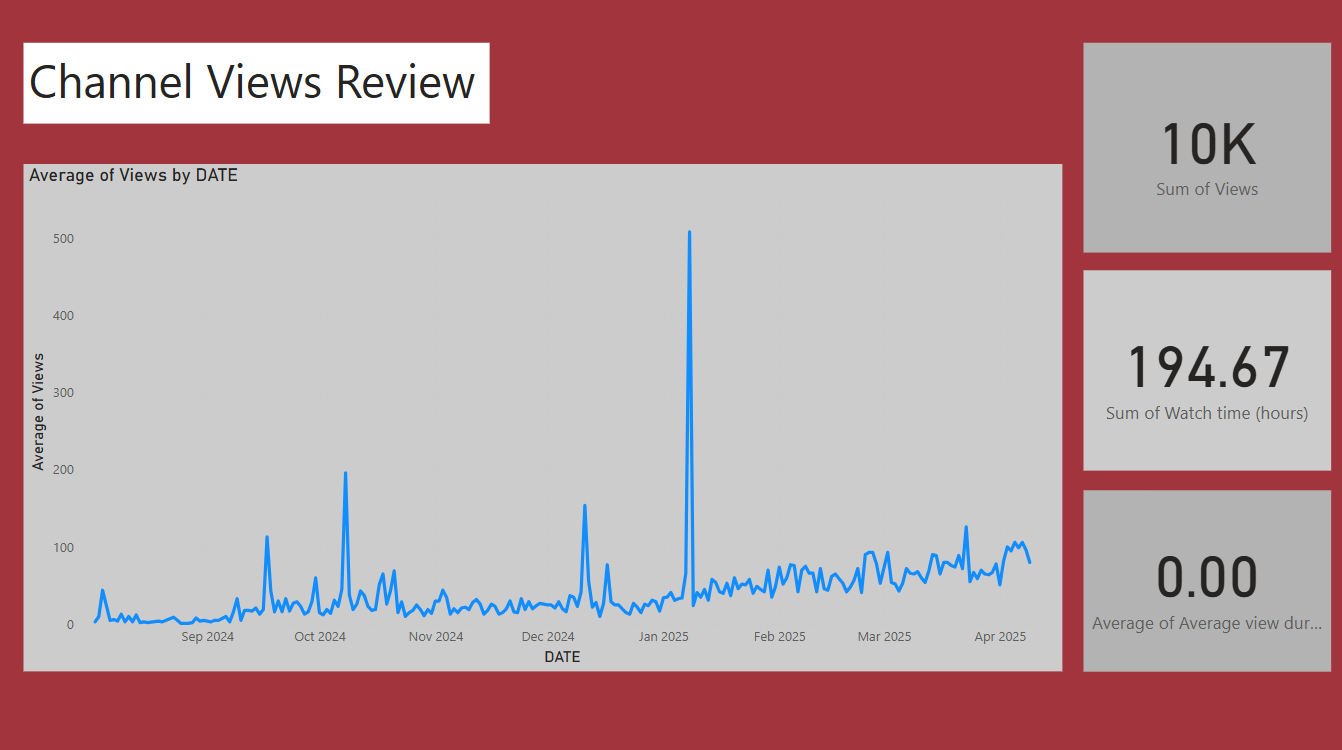

The page's visual inventory and layout, read from the dashboard file:
{"tool":"powerbi","page":{"name":"Views","canvas":[1280,720],"ordinal":0},"visuals":[{"type":"card","fields":{"Values":["Sum(Table data.Views)"]},"box":[1030.5,54.9,230.5,194.9],"z":0},{"type":"card","fields":{"Values":["Sum(Table data.Watch time (hours))"]},"box":[1030.5,266.2,230.5,186.6],"z":1000},{"type":"card","fields":{"Values":["Avg(Table data.Average view duration)"]},"box":[1030.5,470.7,230.5,168.8],"z":2000},{"type":"lineChart","fields":{"Y":["Avg(Totals.Views)"],"Category":["Totals.DATE"]},"box":[44.2,167.4,966.3,472.1],"z":3000},{"type":"textbox","box":[44.2,54.7,433.7,75.6],"z":4000}]}

Visuals, with their boxes in screenshot pixels (x1, y1, x2, y2), scaled from the page's 1280x720 canvas onto the 1342x750 screenshot:
card - Sum(Table data.Views): [left=1080, top=57, right=1322, bottom=260]
card - Sum(Table data.Watch time (hours)): [left=1080, top=277, right=1322, bottom=472]
card - Avg(Table data.Average view duration): [left=1080, top=490, right=1322, bottom=666]
lineChart - Avg(Totals.Views) x Totals.DATE: [left=46, top=174, right=1059, bottom=666]
textbox: [left=46, top=57, right=501, bottom=136]
